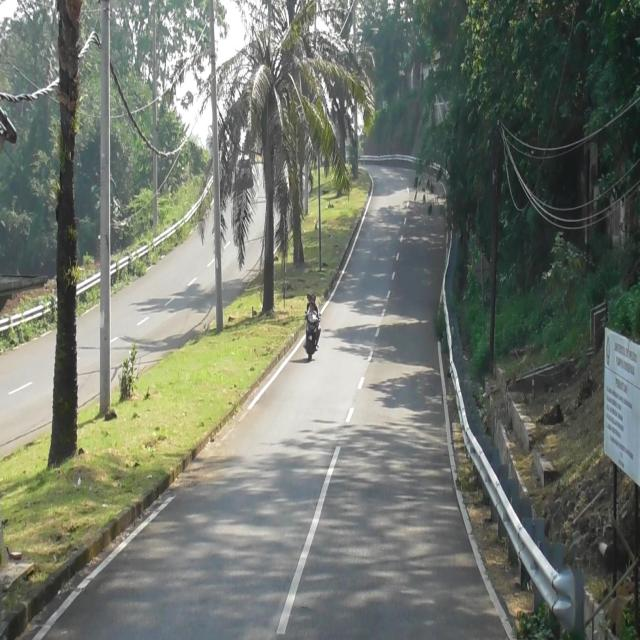motorcycle: (304, 314, 318, 362)
person: (306, 294, 320, 319), (308, 302, 317, 318), (306, 294, 312, 304)
rider_region: (302, 286, 324, 360)
